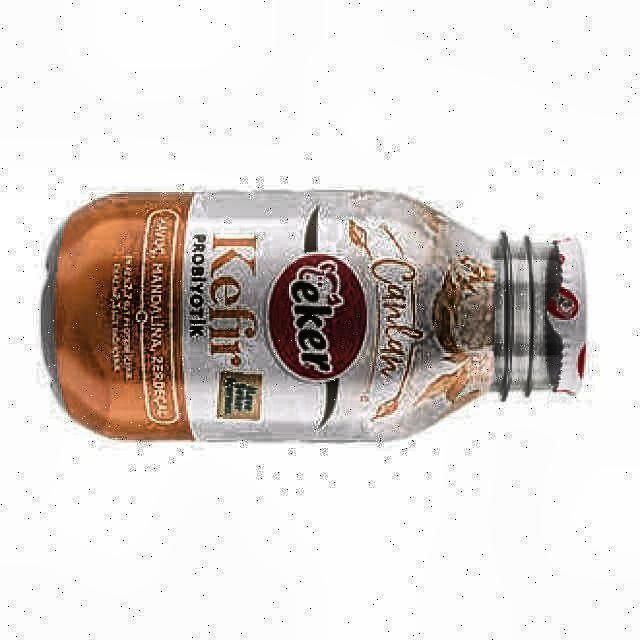plastic: (42, 192, 586, 441)
